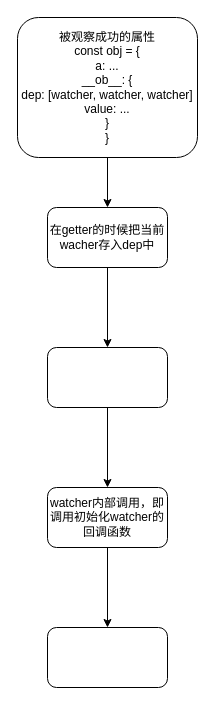
The diagram is 215 pixels wide and 705 high, and some of its shapes have lost their labels. Each missing label, with the box of its shape:
settter的时候，dep调用notify，通知dep内部的wacher调用update更新: (46, 346, 168, 408)
watcher的回调函数其实就是vm._update(vm._render): (46, 626, 168, 688)
